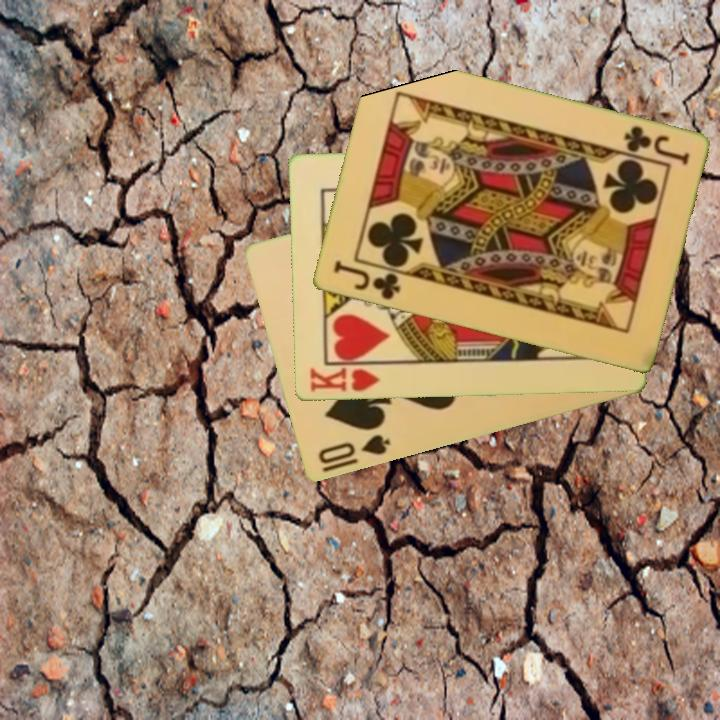10s: (314, 431, 393, 468)
Jc: (329, 257, 403, 303), (620, 122, 692, 169)
Kh: (306, 361, 388, 395)
